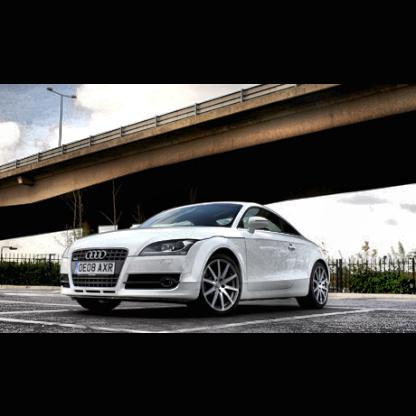Audi TT Hatchback 2011: (58, 193, 330, 319)
